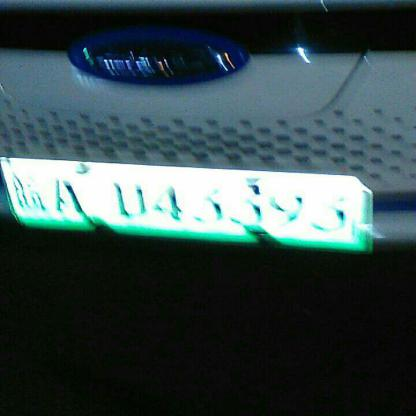lp: (1, 159, 368, 251)
